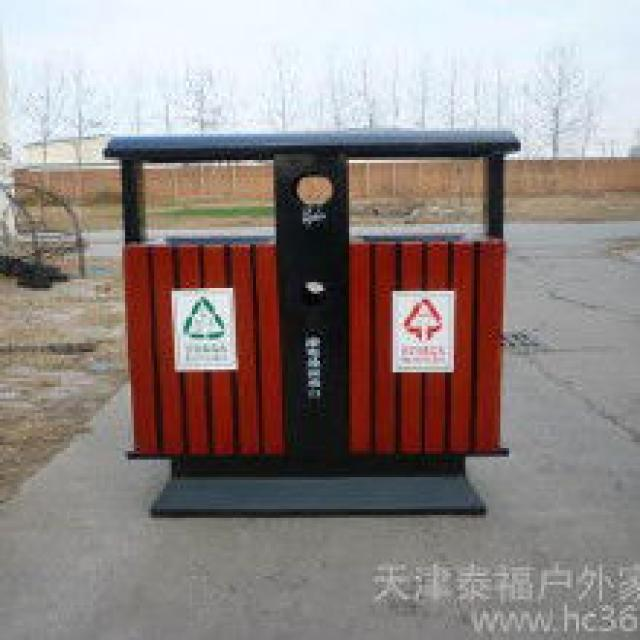garbage_bin: (99, 125, 518, 515)
